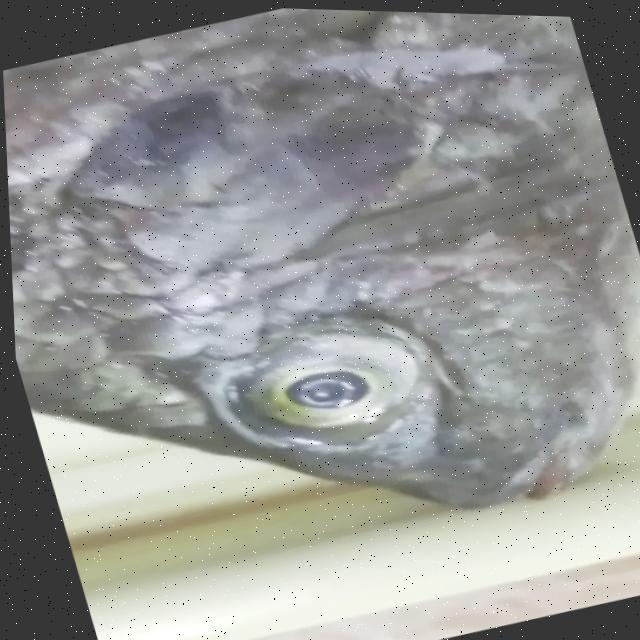Non-Fresh: (183, 276, 480, 498)
